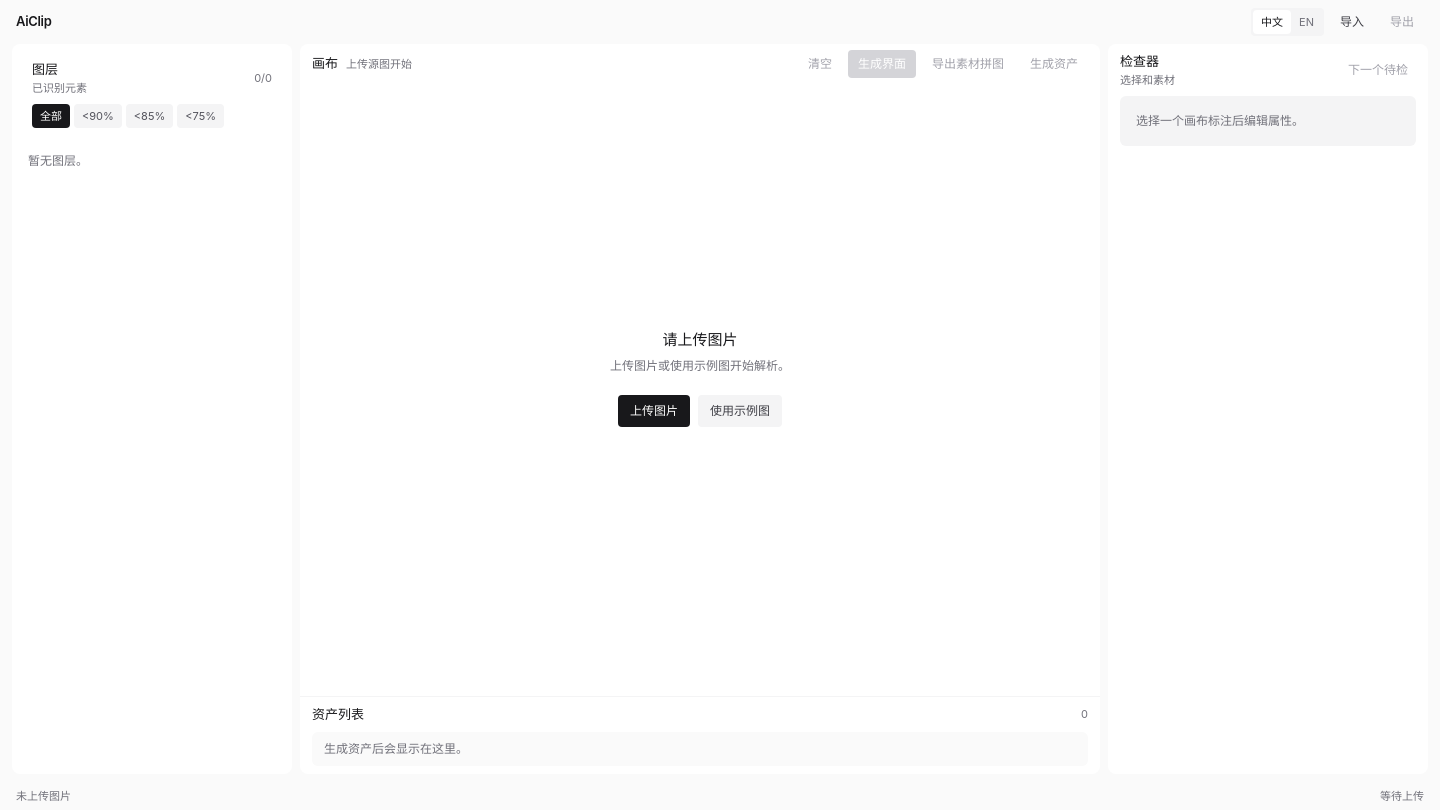
Test case: Workspace › deletes a layer from the right-click menu
Step 1. Click the button "使用示例图" → {"x": 740, "y": 411}, box [698, 395, 782, 427]
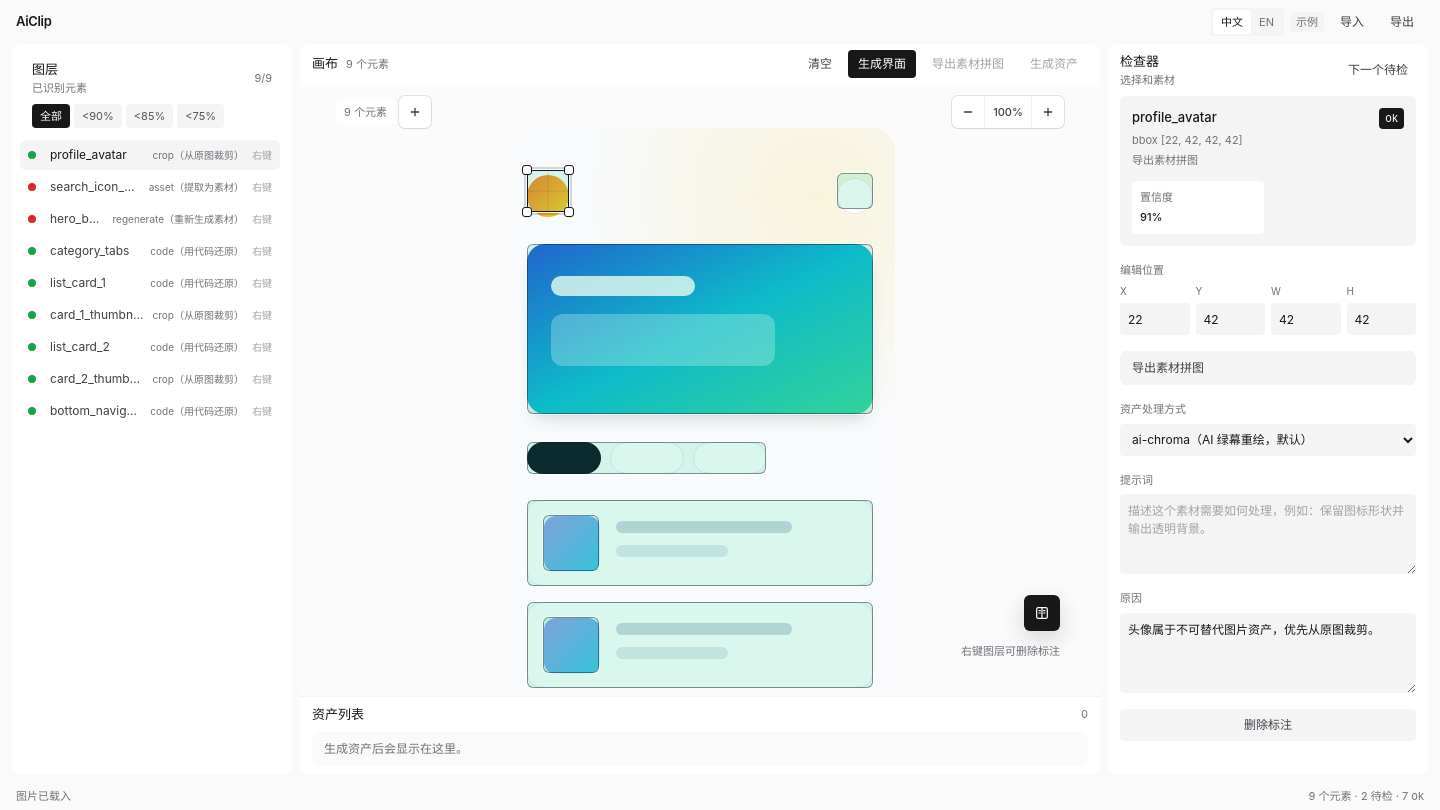
Step 2. Right-click the button "profile_avatar crop（从原图裁剪） 右键" → {"x": 150, "y": 155}, box [20, 140, 280, 170]
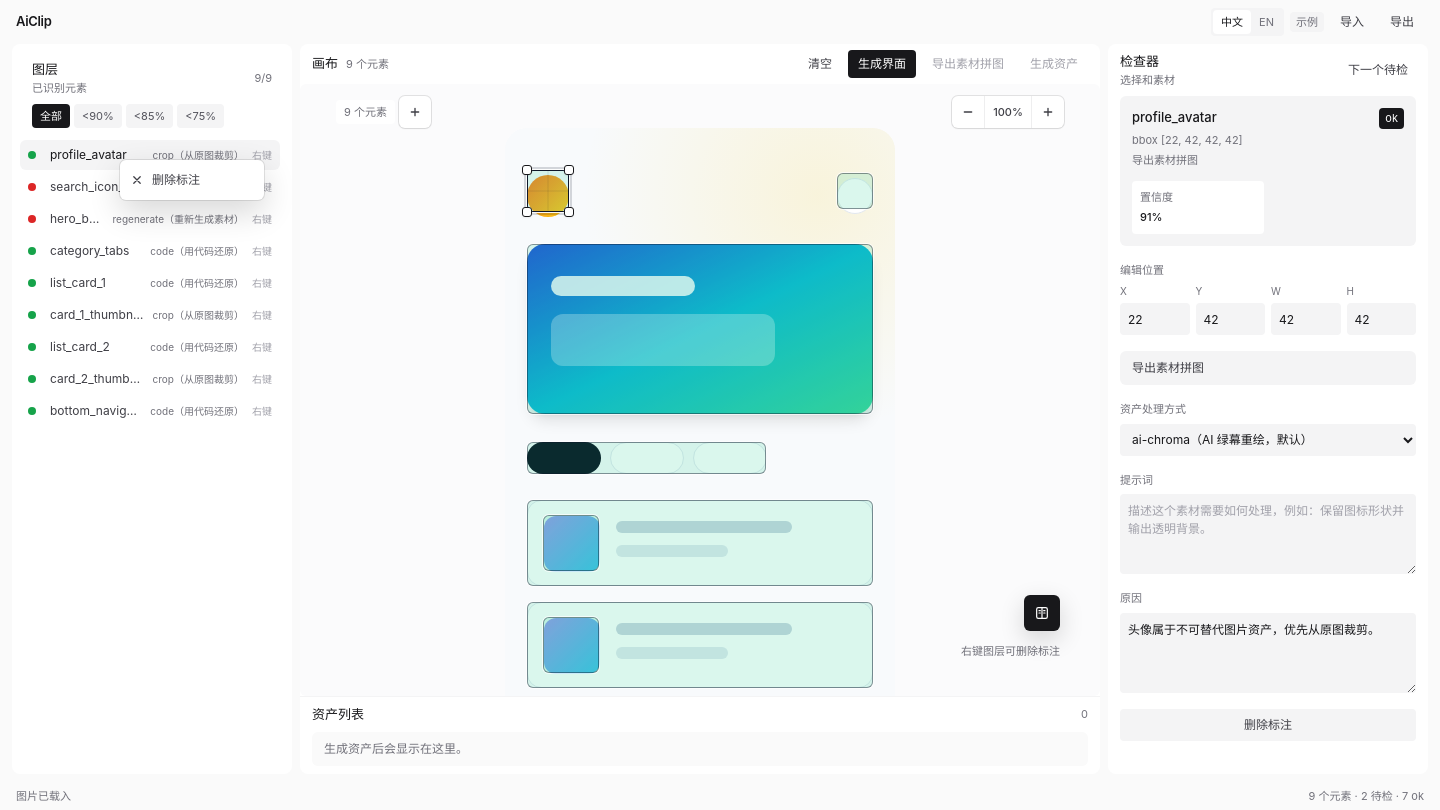
Step 3. Click the button with aria-label "删除标注 profile_avatar" → {"x": 192, "y": 180}, box [120, 164, 264, 196]
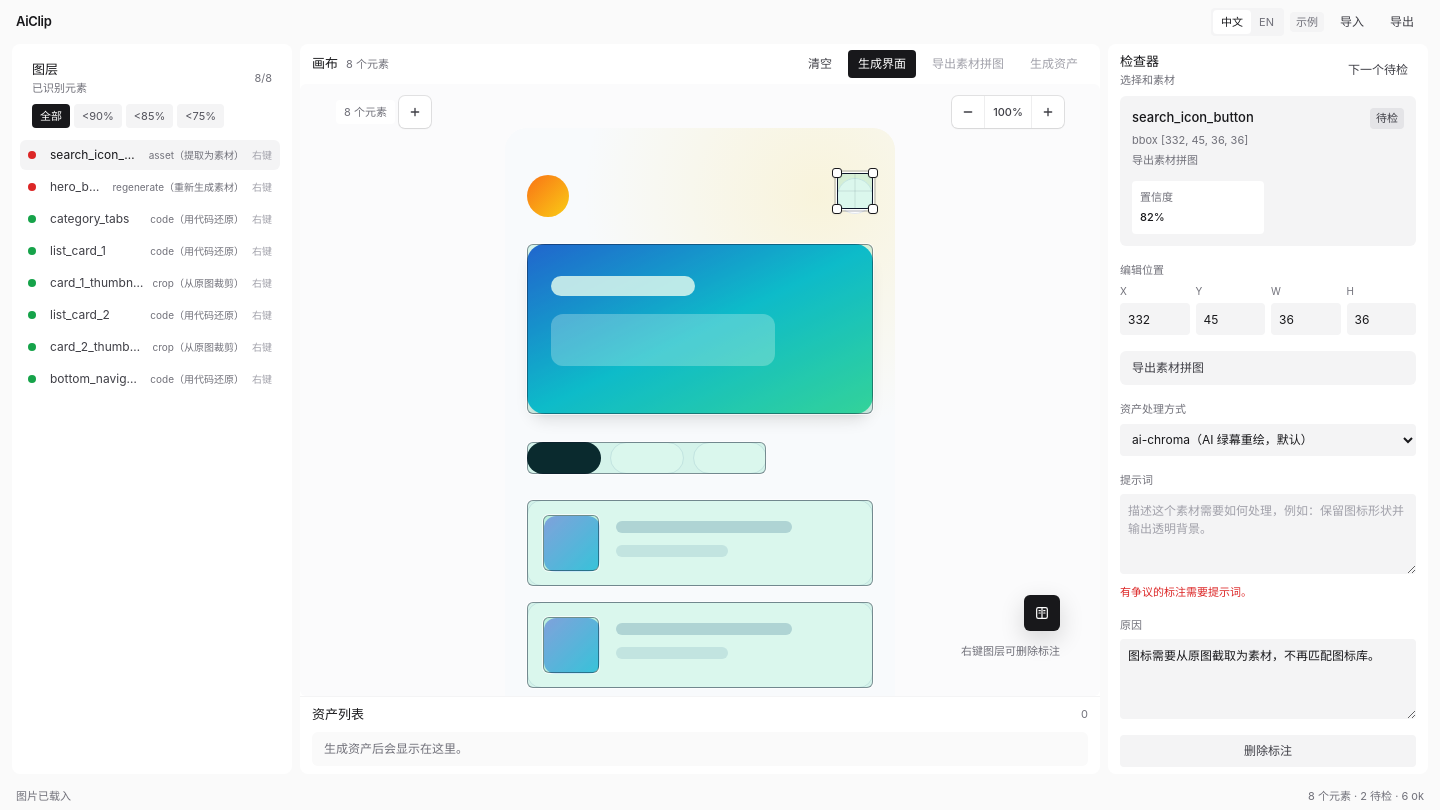
Expected: the button "profile_avatar" is gone
